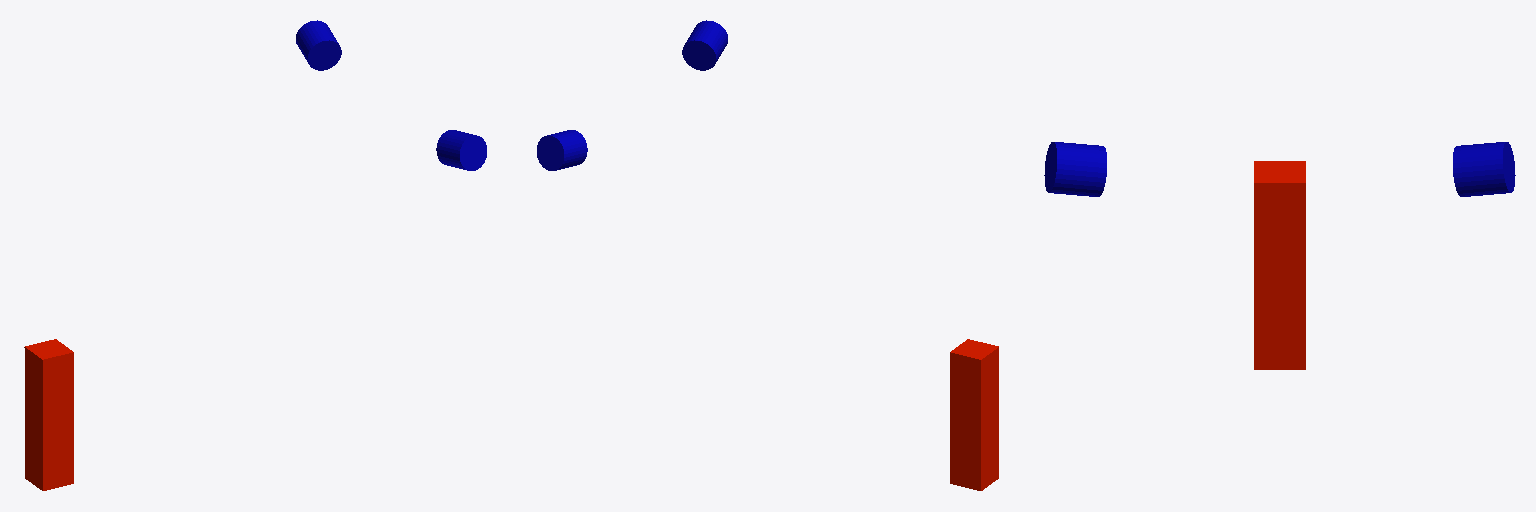
robot.urdf — not_digit:
<?xml version="1.0" encoding="utf-8"?>
<robot name="not_digit">
  <link name="torso">
    <inertial>
      <origin rpy="0 0 0" xyz="0.001637 0.0002 0.259547"/>
      <mass value="0.028392"/>
      <inertia ixx="0.376284" ixy="-8.8e-05" ixz="0.008378" iyy="0.342655" iyz="6.7e-05" izz="0.100648"/>
    </inertial>
    <visual>
      <origin rpy="0 0 0" xyz="0 0 0"/>
      <geometry>
        <mesh filename="stl/torso.stl"/>
      </geometry>
      <material name="scarlet">
        <color rgba="0.89 0.13 0.0 1"/>
      </material>
    </visual>
    <collision>
      <origin rpy="0 0 0" xyz="0 0 0"/>
      <geometry>
        <mesh filename="stl/torso.stl"/>
      </geometry>
    </collision>
  </link>
  
  
  <link name="left_shoulder_roll">
    <inertial>
      <origin rpy="0 0 0" xyz="9e-06 -0.003158 0.023405"/>
      <mass value="0.0535396"/>
      <inertia ixx="0.000704" ixy="1.4e-05" ixz="1.2e-05" iyy="0.00075" iyz="3.5e-05" izz="0.000298"/>
    </inertial>
    <visual>
      <origin rpy="0 0 0" xyz="0 0 0"/>
      <geometry>
        <mesh filename="stl/arm-L1.stl"/>
      </geometry>
      <material name="grey">
        <color rgba="0.35 0.35 0.35 1"/>
      </material>
    </visual>
    <collision>
      <origin rpy="0 0 0" xyz="0 0 0"/>
      <geometry>
        <mesh filename="stl/arm-L1.stl"/>
      </geometry>
    </collision>
  </link>
  <link name="left_shoulder_pitch">
    <inertial>
      <origin rpy="0 0 0" xyz="-4.2e-05 -0.061882 -0.073788"/>
      <mass value="0.0440357"/>
      <inertia ixx="0.006761" ixy="-6e-06" ixz="-3e-06" iyy="0.002087" iyz="-0.002046" izz="0.005778"/>
    </inertial>
    <visual>
      <origin rpy="0 0 0" xyz="0 0 0"/>
      <geometry>
        <mesh filename="stl/arm-L2.stl"/>
      </geometry>
      <material name="scarlet">
        <color rgba="0.89 0.13 0.0 1"/>
      </material>
    </visual>
    <collision>
      <origin rpy="0 0 0" xyz="0 0 0"/>
      <geometry>
        <mesh filename="stl/arm-L2.stl"/>
      </geometry>
    </collision>
  </link>
  <link name="left_shoulder_yaw">
    <inertial>
      <origin rpy="0 0 0" xyz="-3e-05 -0.001937 0.11407"/>
      <mass value="0.065387"/>
      <inertia ixx="0.006967" ixy="1e-06" ixz="-1e-06" iyy="0.007003" iyz="1.5e-05" izz="0.000673"/>
    </inertial>
    <visual>
      <origin rpy="0 0 0" xyz="0 0 0"/>
      <geometry>
        <mesh filename="stl/arm-L3.stl"/>
      </geometry>
      <material name="grey">
        <color rgba="0.35 0.35 0.35 1"/>
      </material>
    </visual>
    <collision>
      <origin rpy="0 0 0" xyz="0 0 0"/>
      <geometry>
        <mesh filename="stl/arm-L3.stl"/>
      </geometry>
    </collision>
  </link>
  <link name="left_elbow">
    <inertial>
      <origin rpy="0 0 0" xyz="0.107996 -0.000521 -0.017765"/>
      <mass value="0.0550582"/>
      <inertia ixx="0.000476" ixy="2.9e-05" ixz="0.001403" iyy="0.009564" iyz="1.5e-05" izz="-9e-06"/>
    </inertial>
    <visual>
      <origin rpy="0 0 0" xyz="0 0 0"/>
      <geometry>
        <mesh filename="stl/arm-L4.stl"/>
      </geometry>
      <material name="light_grey">
        <color rgba="0.75 0.75 0.75 1"/>
      </material>
    </visual>
    <collision>
      <origin rpy="0 0 0" xyz="0 0 0"/>
      <geometry>
        <mesh filename="stl/arm-L4.stl"/>
      </geometry>
    </collision>
  </link>
  





  <!-- ATTACH HOVERBOARD HERE -->

  <link name="bar">
    <inertial>
      <origin rpy="0 0 0" xyz="0 0 0"/>
      <mass value="0.028392"/>
      <inertia ixx="0.0045" ixy="0" ixz="0" iyy="0.005" iyz="0" izz="0.0045" />
    </inertial>
    <visual>
      <origin rpy="1.57 0 1.57" xyz="0 0 0"/>
      <geometry>
        <!-- <mesh filename="meshes/base.obj" scale="0.04 0.03 0.03"/> -->
        <box size="0.05 0.05 0.2"/>
      </geometry>
      <material name="grey">
        <color rgba="0.89 0.13 0.0 1"/>
      </material>
    </visual>
    <collision>
      <origin rpy="1.57  0 1.57 " xyz="0 0 0"/>
      <geometry>
        <!-- <mesh filename="meshes/base.obj" scale="0.04 0.03 0.03"/> -->
        <box size="0.05 0.05 0.2"/>
      </geometry>
    </collision>
</link>

<joint name="bar_to_torso" type="fixed">
  <origin rpy="0 1.57 0" xyz=" 0 0 -0.05"/>
      <!-- <axis xyz="1 1 1"/> -->
    <parent link="torso"/>
    <child link="bar"/>
</joint>



  
  <link name="right_shoulder_roll">
    <inertial>
      <origin rpy="0 0 0" xyz="9e-06 0.003158 0.023405"/>
      <mass value="0.0535396"/>
      <inertia ixx="0.000704" ixy="-1.4e-05" ixz="1.2e-05" iyy="0.00075" iyz="-3.5e-05" izz="0.000298"/>
    </inertial>
    <visual>
      <origin rpy="0 0 0" xyz="0 0 0"/>
      <geometry>
        <mesh filename="stl/arm-L1.stl" scale="1 -1 1"/>
      </geometry>
      <material name="grey">
        <color rgba="0.35 0.35 0.35 1"/>
      </material>
    </visual>
    <collision>
      <origin rpy="0 0 0" xyz="0 0 0"/>
      <geometry>
        <mesh filename="stl/arm-L1.stl" scale="1 -1 1"/>
      </geometry>
    </collision>
  </link>
  <link name="right_shoulder_pitch">
    <inertial>
      <origin rpy="0 0 0" xyz="-4.2e-05 0.061882 -0.073788"/>
      <mass value="0.0440357"/>
      <inertia ixx="0.006761" ixy="6e-06" ixz="-3e-06" iyy="0.002087" iyz="0.002046" izz="0.005778"/>
    </inertial>
    <visual>
      <origin rpy="0 0 0" xyz="0 0 0"/>
      <geometry>
        <mesh filename="stl/arm-L2.stl" scale="1 -1 1"/>
      </geometry>
      <material name="scarlet">
        <color rgba="0.89 0.13 0.0 1"/>
      </material>
    </visual>
    <collision>
      <origin rpy="0 0 0" xyz="0 0 0"/>
      <geometry>
        <mesh filename="stl/arm-L2.stl" scale="1 -1 1"/>
      </geometry>
    </collision>
  </link>
  <link name="right_shoulder_yaw">
    <inertial>
      <origin rpy="0 0 0" xyz="-3e-05 0.001937 0.11407"/>
      <mass value="0.065387"/>
      <inertia ixx="0.006967" ixy="-1e-06" ixz="-1e-06" iyy="0.007003" iyz="-1.5e-05" izz="0.000673"/>
    </inertial>
    <visual>
      <origin rpy="0 0 0" xyz="0 0 0"/>
      <geometry>
        <mesh filename="stl/arm-L3.stl" scale="1 -1 1"/>
      </geometry>
      <material name="grey">
        <color rgba="0.35 0.35 0.35 1"/>
      </material>
    </visual>
    <collision>
      <origin rpy="0 0 0" xyz="0 0 0"/>
      <geometry>
        <mesh filename="stl/arm-L3.stl" scale="1 -1 1"/>
      </geometry>
    </collision>
  </link>
  <link name="right_elbow">
    <inertial>
      <origin rpy="0 0 0" xyz="0.107996 0.000521 -0.017765"/>
      <mass value="0.0550582"/>
      <inertia ixx="0.000476" ixy="-2.9e-05" ixz="0.001403" iyy="0.009564" iyz="-1.5e-05" izz="-9e-06"/>
    </inertial>
    <visual>
      <origin rpy="0 0 0" xyz="0 0 0"/>
      <geometry>
        <mesh filename="stl/arm-L4.stl" scale="1 -1 1"/>
      </geometry>
      <material name="light_grey">
        <color rgba="0.75 0.75 0.75 1"/>
      </material>
    </visual>
    <collision>
      <origin rpy="0 0 0" xyz="0 0 0"/>
      <geometry>
        <mesh filename="stl/arm-L4.stl" scale="1 -1 1"/>
      </geometry>
    </collision>
  </link>





  <!-- MY STUFF -->
  <!-- right gripper -->
  <link name="right_wrist">
    <inertial>
      <origin rpy="0 0 0" xyz="0.107996 0.000521 -0.017765"/>
      <mass value="0.0550582"/>
      <inertia ixx="0.000476" ixy="-2.9e-05" ixz="0.001403" iyy="0.009564" iyz="-1.5e-05" izz="-9e-06"/>
    </inertial>
    <visual>
      <origin rpy="0 1.5707 1.5707 " xyz="0 0 0"/>
      <geometry>
        <cylinder radius="0.025" length="0.05"/>
      </geometry>
      <material name="blue">
        <color rgba="0.05 0.05 0.75 0.9"/>
      </material>
    </visual>
    <collision>
      <origin rpy="0 1.5707 1.5707" xyz="0 0 0"/>
      <geometry>
        <cylinder radius="0.025" length="0.05"/>
      </geometry>
    </collision>
  </link>
  <joint name="right_wrist_joint" type="revolute">
    <origin rpy="-1.57079632679 0.1926991 0" xyz="0.38 -0.0 -0.06"/>
    <parent link="right_elbow"/>
    <child link="right_wrist"/>
    <axis xyz="0 1 0"/>
    <limit effort="0" lower="-1.57" upper="1.57" velocity="10"/>
  </joint>

  <link name="gripper_r_base">
    <inertial>
      <origin rpy="0 0 0" xyz="0 0 0"/>
      <mass value="0.02"/>
      <inertia ixx="0.0001" ixy="0" ixz="0" iyy="0.0001" iyz="0" izz="0.0001"/>
    </inertial>
    <visual>
      <origin rpy="0 1.5707 0" xyz="0 0 0"/>
      <geometry>
        <mesh filename="[local-path]/garage/kfp_v2/morpheus/models/yumi_description/meshes/gripper/base.stl"/>
      </geometry>
      <material name="Light_Grey"/>
    </visual>
    <collision>
      <origin rpy="0 1.5707 0" xyz="0 0 0"/>
      <geometry>
        <mesh filename="[local-path]/garage/kfp_v2/morpheus/models/yumi_description/meshes/gripper/coarse/base.stl"/>
      </geometry>
      <material name="Light_Grey"/>
    </collision>
  </link>

  <joint name="gripper_right_wrist_joint" type="revolute">
    <origin rpy="0 0 0" xyz="0 0 0"/>
    <parent link="right_wrist"/>
    <child link="gripper_r_base"/>
    <axis xyz="1 0 0"/>
    <limit effort="0" lower="-1.57" upper="1.57" velocity="10"/>
  </joint>

  <joint name="gripper_r_joint" type="prismatic">
    <parent link="gripper_r_base"/>
    <child link="gripper_r_finger_r"/>
    <origin rpy="0 1.57 0" xyz="0.09 -0.0065 0.0"/>
    <axis xyz="-1 0 0"/>
    <limit effort="300" lower="0" upper="0.025" velocity="0.02"/>
    <dynamics damping="0.5"/>
  </joint>
  <link name="gripper_r_finger_r">
    <inertial>
      <origin rpy="0 0 0" xyz="0 0 0"/>
      <mass value="0.01"/>
      <inertia ixx="0.000001" ixy="0" ixz="0" iyy="0.000001" iyz="0" izz="0.000001"/>
    </inertial>
    <visual>
      <origin rpy="0 0 0" xyz="0 0 0"/>
      <geometry>
        <mesh filename="[local-path]/garage/kfp_v2/morpheus/models/yumi_description/meshes/gripper/finger.stl"/>
      </geometry>
      <material name="scarlet"/>
    </visual>
    <collision>
      <origin rpy="0 0 0" xyz="0 0 0"/>
      <geometry>
        <mesh filename="[local-path]/garage/kfp_v2/morpheus/models/yumi_description/meshes/gripper/coarse/finger.stl"/>
      </geometry>
      <material name="Grey"/>
    </collision>
  </link>

  <joint name="gripper_r_joint_m" type="prismatic">
      <parent link="gripper_r_base"/>
      <child link="gripper_r_finger_l"/>
      <origin rpy="0 -1.57 3.14159265359" xyz="0.09 0.0065 0.0"/>
      <axis xyz="-1 0 0"/>
      <limit effort="300" lower="0" upper="0.025" velocity="0.02"/>
      <dynamics damping="0.5"/>
      <mimic joint="gripper_r_joint"/>
    </joint>
    <link name="gripper_r_finger_l">
      <inertial>
        <origin rpy="0 0 0" xyz="0 0 0"/>
        <mass value="0.01"/>
        <inertia ixx="0.000001" ixy="0" ixz="0" iyy="0.000001" iyz="0" izz="0.000001"/>
      </inertial>
      <visual>
        <origin rpy="0 0 0" xyz="0 0 0"/>
        <geometry>
          <mesh filename="[local-path]/garage/kfp_v2/morpheus/models/yumi_description/meshes/gripper/finger.stl"/>
        </geometry>
        <material name="grey"/>
      </visual>
      <collision>
        <origin rpy="0 0 0" xyz="0 0 0"/>
        <geometry>
          <mesh filename="[local-path]/garage/kfp_v2/morpheus/models/yumi_description/meshes/gripper/coarse/finger.stl"/>
        </geometry>
        <material name="Grey"/>
      </collision>
    </link>

    <!-- left gripper -->
    <link name="left_wrist">
    <inertial>
      <origin rpy="0 0 0" xyz="0.107996 0.000521 -0.017765"/>
      <mass value="0.0550582"/>
      <inertia ixx="0.000476" ixy="-2.9e-05" ixz="0.001403" iyy="0.009564" iyz="-1.5e-05" izz="-9e-06"/>
    </inertial>
    <visual>
      <origin rpy="0 1.5707 1.5707 " xyz="0 0 0"/>
      <geometry>
        <cylinder radius="0.025" length="0.05"/>
      </geometry>
      <material name="blue">
        <color rgba="0.05 0.05 0.75 0.9"/>
      </material>
    </visual>
    <collision>
      <origin rpy="0 1.5707 1.5707" xyz="0 0 0"/>
      <geometry>
        <cylinder radius="0.025" length="0.05"/>
      </geometry>
    </collision>
  </link>
  <joint name="left_wrist_joint" type="revolute">
    <origin rpy="-1.57079632679 0.1926991 0" xyz="0.38 -0.0 -0.06"/>
    <parent link="left_elbow"/>
    <child link="left_wrist"/>
    <axis xyz="0 1 0"/>
    <limit effort="0" lower="-1.57" upper="1.57" velocity="10"/>
  </joint>

  <link name="gripper_l_base">
    <inertial>
      <origin rpy="0 0 0" xyz="0 0 0"/>
      <mass value="0.02"/>
      <inertia ixx="0.0001" ixy="0" ixz="0" iyy="0.0001" iyz="0" izz="0.0001"/>
    </inertial>
    <visual>
      <origin rpy="0 1.5707 0" xyz="0 0 0"/>
      <geometry>
        <mesh filename="[local-path]/garage/kfp_v2/morpheus/models/yumi_description/meshes/gripper/base.stl"/>
      </geometry>
      <material name="Light_Grey"/>
    </visual>
    <collision>
      <origin rpy="0 1.5707 0" xyz="0 0 0"/>
      <geometry>
        <mesh filename="[local-path]/garage/kfp_v2/morpheus/models/yumi_description/meshes/gripper/coarse/base.stl"/>
      </geometry>
      <material name="Light_Grey"/>
    </collision>
  </link>

  <joint name="gripper_left_wrist_joint" type="revolute">
    <origin rpy="0 0 0" xyz="0 0 0"/>
    <parent link="left_wrist"/>
    <child link="gripper_l_base"/>
    <axis xyz="1 0 0"/>
    <limit effort="0" lower="-1.57" upper="1.57" velocity="10"/>
  </joint>

  <joint name="gripper_l_joint" type="prismatic">
    <parent link="gripper_l_base"/>
    <child link="gripper_l_finger_r"/>
    <origin rpy="0 1.57 0" xyz="0.09 -0.0065 0.0"/>
    <axis xyz="-1 0 0"/>
    <limit effort="300" lower="0" upper="0.025" velocity="0.02"/>
    <dynamics damping="0.5"/>
  </joint>
  <link name="gripper_l_finger_r">
    <inertial>
      <origin rpy="0 0 0" xyz="0 0 0"/>
      <mass value="0.01"/>
      <inertia ixx="0.000001" ixy="0" ixz="0" iyy="0.000001" iyz="0" izz="0.000001"/>
    </inertial>
    <visual>
      <origin rpy="0 0 0" xyz="0 0 0"/>
      <geometry>
        <mesh filename="[local-path]/garage/kfp_v2/morpheus/models/yumi_description/meshes/gripper/finger.stl"/>
      </geometry>
      <material name="scarlet"/>
    </visual>
    <collision>
      <origin rpy="0 0 0" xyz="0 0 0"/>
      <geometry>
        <mesh filename="[local-path]/garage/kfp_v2/morpheus/models/yumi_description/meshes/gripper/coarse/finger.stl"/>
      </geometry>
      <material name="Grey"/>
    </collision>
  </link>

  <joint name="gripper_l_joint_m" type="prismatic">
      <parent link="gripper_l_base"/>
      <child link="gripper_l_finger_l"/>
      <origin rpy="0 -1.57 3.14159265359" xyz="0.09 0.0065 0.0"/>
      <axis xyz="-1 0 0"/>
      <limit effort="300" lower="0" upper="0.025" velocity="0.02"/>
      <dynamics damping="0.5"/>
      <mimic joint="gripper_l_joint"/>
    </joint>
    <link name="gripper_l_finger_l">
      <inertial>
        <origin rpy="0 0 0" xyz="0 0 0"/>
        <mass value="0.01"/>
        <inertia ixx="0.000001" ixy="0" ixz="0" iyy="0.000001" iyz="0" izz="0.000001"/>
      </inertial>
      <visual>
        <origin rpy="0 0 0" xyz="0 0 0"/>
        <geometry>
          <mesh filename="[local-path]/garage/kfp_v2/morpheus/models/yumi_description/meshes/gripper/finger.stl"/>
        </geometry>
        <material name="grey"/>
      </visual>
      <collision>
        <origin rpy="0 0 0" xyz="0 0 0"/>
        <geometry>
          <mesh filename="[local-path]/garage/kfp_v2/morpheus/models/yumi_description/meshes/gripper/coarse/finger.stl"/>
        </geometry>
        <material name="Grey"/>
      </collision>
    </link>
  















  

  <joint name="shoulder_roll_joint_left" type="continuous">
    <origin rpy="-1.57079632679 -1.3962633 1.57079632679" xyz="-0.001 0.12 0.4"/>
    <axis xyz="0 0 1"/>
    <parent link="torso"/>
    <child link="left_shoulder_roll"/>
    <limit effort="1.4" lower="-1.309" upper="1.309" velocity="12.5"/>
  </joint>
  <joint name="shoulder_pitch_joint_left" type="continuous">
    <origin rpy="1.57079632679 0.785398163397 -0.2792527" xyz="-0.00317 -0.011055 0.0555"/>
    <axis xyz="0 0 -1"/>
    <parent link="left_shoulder_roll"/>
    <child link="left_shoulder_pitch"/>
    <limit effort="1.4" lower="-2.5307" upper="2.5307" velocity="12.5"/>
  </joint>
  <joint name="shoulder_yaw_joint_left" type="continuous">
    <origin rpy="1.57079632679 0 0" xyz="0 -0.165 -0.1"/>
    <axis xyz="0 0 1"/>
    <parent link="left_shoulder_pitch"/>
    <child link="left_shoulder_yaw"/>
    <limit effort="1.4" lower="-1.7453" upper="1.7453" velocity="10"/>
  </joint>
  <joint name="elbow_joint_left" type="continuous">
    <origin rpy="1.57079632679 -0.3926991 0" xyz="0 -0.0385 0.185"/>
    <axis xyz="0 0 1"/>
    <parent link="left_shoulder_yaw"/>
    <child link="left_elbow"/>
    <limit effort="1.4" lower="-1.3526" upper="1.3526" velocity="12.5"/>
  </joint>
 
  

  <joint name="shoulder_roll_joint_right" type="continuous">
    <origin rpy="1.57079632679 -1.3962633 -1.57079632679" xyz="-0.001 -0.12 0.4"/>
    <axis xyz="0 0 1"/>
    <parent link="torso"/>
    <child link="right_shoulder_roll"/>
    <limit effort="1.4" lower="-1.309" upper="1.309" velocity="12.5"/>
  </joint>
  <joint name="shoulder_pitch_joint_right" type="continuous">
    <origin rpy="-1.57079632679 0.785398163397 0.2792527" xyz="-0.00317 0.011055 0.0555"/>
    <axis xyz="0 0 -1"/>
    <parent link="right_shoulder_roll"/>
    <child link="right_shoulder_pitch"/>
    <limit effort="1.4" lower="-2.5307" upper="2.5307" velocity="12.5"/>
  </joint>
  <joint name="shoulder_yaw_joint_right" type="continuous">
    <origin rpy="-1.57079632679 0 0" xyz="0 0.165 -0.1"/>
    <axis xyz="0 0 1"/>
    <parent link="right_shoulder_pitch"/>
    <child link="right_shoulder_yaw"/>
    <limit effort="1.4" lower="-1.7453" upper="1.7453" velocity="10"/>
  </joint>
  <joint name="elbow_joint_right" type="continuous">
    <origin rpy="-1.57079632679 -0.3926991 0" xyz="0 0.0385 0.185"/>
    <axis xyz="0 0 1"/>
    <parent link="right_shoulder_yaw"/>
    <child link="right_elbow"/>
    <limit effort="1.4" lower="-1.3526" upper="1.3526" velocity="12.5"/>
  </joint>
 
</robot>

--- Render facts (derived) ---
The picture shows the robot from 3 angles, left to right: view 1: azimuth 30°, elevation 25°; view 2: azimuth 150°, elevation 25°; view 3: azimuth 270°, elevation 25°; orthographic projection.
Model not_digit with 18 links and 17 joints (4 revolute, 8 continuous, 4 prismatic, 1 fixed), rooted at torso, posed all joints at 0.
Visible links, largest first — view 1: bar, right_wrist, left_wrist; view 2: bar, left_wrist, right_wrist; view 3: bar, right_wrist, left_wrist.
Link boxes in pixels (x1,y1,x2,y2): bar: [24, 339, 73, 490]; right_wrist: [436, 130, 486, 170]; left_wrist: [296, 20, 341, 70]; bar: [950, 339, 998, 490]; left_wrist: [537, 130, 587, 170]; right_wrist: [682, 20, 727, 70]; bar: [1254, 161, 1305, 369]; right_wrist: [1044, 142, 1106, 196]; left_wrist: [1453, 142, 1515, 196].
Size in the robot's own frame: 0.5962 by 0.4555 by 0.4845 metres.
0 mesh visuals loaded from 5 distinct referenced files (none loaded); not drawn: 9 (reference not matched to a file when rendering), 6 (reference in a form the renderer does not follow; not among the files counted above).